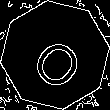O_NE: (22, 22, 88, 88)
